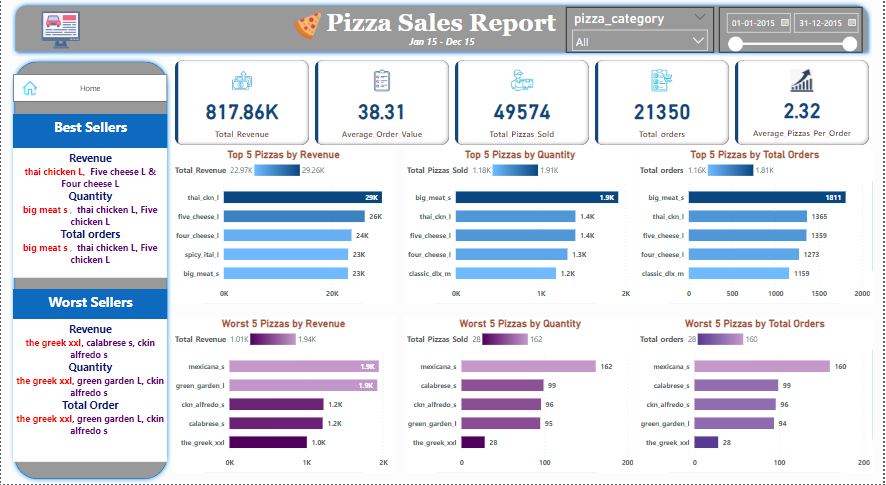

What the dashboard file says about the page in this screenshot:
{"tool":"powerbi","page":{"name":"Best_Worst Selling","canvas":[1550,850],"ordinal":1},"visuals":[{"type":"cardVisual","fields":{"Data":["projects pizza_sales.Total_Revenue","projects pizza_sales.Average_Order_Value","projects pizza_sales.Total_Pizzas_Sold","projects pizza_sales.Total_orders","projects pizza_sales.Average_Pizzas_Per_Order"]},"box":[300.7,99.5,1231.1,160.5],"z":0},{"type":"shape","box":[16.3,0,1515.5,99.5],"z":1000},{"type":"textbox","box":[631.8,56.9,284.4,42.7],"z":2000},{"type":"image","box":[509.9,12.2,58.9,67],"z":3000},{"type":"shape","box":[16.3,99.5,284.4,749.6],"z":4000},{"type":"textbox","box":[21.6,199.8,271.4,59.9],"z":5000},{"type":"textbox","box":[21.6,259.7,271.4,228.1],"z":6000},{"type":"textbox","box":[21.6,507.8,271.4,53.3],"z":7000},{"type":"textbox","box":[21.6,561.1,271.4,251.4],"z":8000},{"type":"shape","box":[300.7,260,392.1,274.2],"z":9000},{"type":"shape","box":[709,260,396.1,274.2],"z":10000},{"type":"shape","box":[1117.3,260,414.4,274.2],"z":11000},{"type":"shape","box":[300.7,556.6,392.1,274.2],"z":12000},{"type":"shape","box":[709,556.6,396.1,274.2],"z":13000},{"type":"shape","box":[1117.3,556.6,414.4,274.2],"z":14000},{"type":"barChart","title":"Top 5 Pizzas by Revenue","fields":{"Category":["projects pizza_sales.pizza_name_id"],"Y":["projects pizza_sales.Total_Revenue"]},"box":[300.7,260,392.1,274.2],"z":15000},{"type":"barChart","title":"Worst 5 Pizzas by Revenue","fields":{"Category":["projects pizza_sales.pizza_name_id"],"Y":["projects pizza_sales.Total_Revenue"]},"box":[300.7,556.6,392.1,274.2],"z":16000},{"type":"barChart","title":"Top 5 Pizzas by Quantity","fields":{"Category":["projects pizza_sales.pizza_name_id"],"Y":["projects pizza_sales.Total_Pizzas_Sold"]},"box":[709,260,408.3,274.2],"z":17000},{"type":"barChart","title":"Worst 5 Pizzas by Quantity","fields":{"Category":["projects pizza_sales.pizza_name_id"],"Y":["projects pizza_sales.Total_Pizzas_Sold"]},"box":[709,556.6,408.3,274.2],"z":18000},{"type":"barChart","title":"Top 5 Pizzas by Total Orders","fields":{"Category":["projects pizza_sales.pizza_name_id"],"Y":["projects pizza_sales.Total_orders"]},"box":[1117.3,260,414.4,274.2],"z":19000},{"type":"barChart","title":"Worst 5 Pizzas by Total Orders","fields":{"Category":["projects pizza_sales.pizza_name_id"],"Y":["projects pizza_sales.Total_orders"]},"box":[1117.3,556.6,414.4,274.2],"z":20000},{"type":"pageNavigator","box":[21.6,129.9,271.4,49.9],"z":21000},{"type":"image","box":[33.3,133.2,35,43.3],"z":22000},{"type":"image","box":[51.6,11.7,106.6,79.9],"z":23000},{"type":"slicer","fields":{"Values":["projects pizza_sales.pizza_category"]},"box":[992.3,11.7,259.7,79.9],"z":24000},{"type":"slicer","fields":{"Values":["projects pizza_sales.order_date"]},"box":[1262.1,11.8,252.4,79.7],"z":25000}]}

Visuals, with their boxes in screenshot pixels (x1, y1, x2, y2), scaled from the page's 1550x850 canvas onto the 886x485 screenshot:
cardVisual - projects pizza_sales.Total_Revenue x projects pizza_sales.Average_Order_Value: x1=172, y1=57, x2=876, y2=148
shape: x1=9, y1=0, x2=876, y2=57
textbox: x1=361, y1=32, x2=524, y2=57
image: x1=291, y1=7, x2=325, y2=45
shape: x1=9, y1=57, x2=172, y2=484
textbox: x1=12, y1=114, x2=167, y2=148
textbox: x1=12, y1=148, x2=167, y2=278
textbox: x1=12, y1=290, x2=167, y2=320
textbox: x1=12, y1=320, x2=167, y2=464
shape: x1=172, y1=148, x2=396, y2=305
shape: x1=405, y1=148, x2=632, y2=305
shape: x1=639, y1=148, x2=876, y2=305
shape: x1=172, y1=318, x2=396, y2=474
shape: x1=405, y1=318, x2=632, y2=474
shape: x1=639, y1=318, x2=876, y2=474
"Top 5 Pizzas by Revenue" barChart: x1=172, y1=148, x2=396, y2=305
"Worst 5 Pizzas by Revenue" barChart: x1=172, y1=318, x2=396, y2=474
"Top 5 Pizzas by Quantity" barChart: x1=405, y1=148, x2=639, y2=305
"Worst 5 Pizzas by Quantity" barChart: x1=405, y1=318, x2=639, y2=474
"Top 5 Pizzas by Total Orders" barChart: x1=639, y1=148, x2=876, y2=305
"Worst 5 Pizzas by Total Orders" barChart: x1=639, y1=318, x2=876, y2=474
pageNavigator: x1=12, y1=74, x2=167, y2=103
image: x1=19, y1=76, x2=39, y2=101
image: x1=29, y1=7, x2=90, y2=52
slicer - projects pizza_sales.pizza_category: x1=567, y1=7, x2=716, y2=52
slicer - projects pizza_sales.order_date: x1=721, y1=7, x2=866, y2=52
